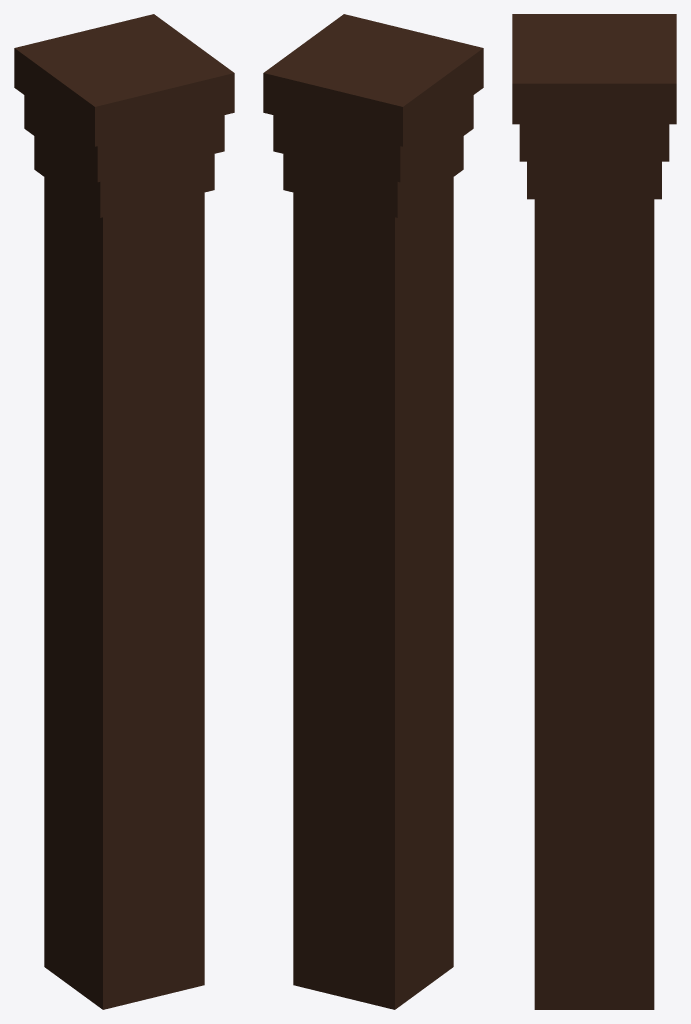
The model's file is tiang.glb.
3 views of the same model, side by side, from view 1: azimuth 30°, elevation 25°; view 2: azimuth 150°, elevation 25°; view 3: azimuth 270°, elevation 25° (orthographic). The views are drawn at different scales.
Visible parts, largest first — view 1: Tiang_Masjid_Polos; view 2: Tiang_Masjid_Polos; view 3: Tiang_Masjid_Polos.
Boxes of the visible parts, <box> form: Tiang_Masjid_Polos: <box>14,14,234,1009</box>; Tiang_Masjid_Polos: <box>263,14,483,1009</box>; Tiang_Masjid_Polos: <box>512,14,676,1009</box>.
Size of the model in its own units: 0.55 by 3.45 by 0.55.
